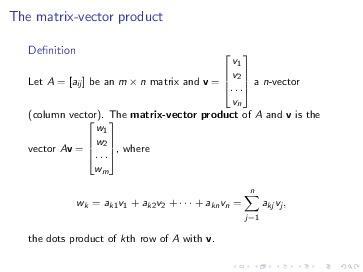paragraph: (21, 35, 332, 258)
subtitle: (25, 40, 81, 62)
title: (7, 7, 167, 27)
